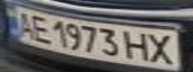1: (45, 18, 69, 48)
3: (96, 25, 121, 58)
7: (78, 24, 100, 55)
9: (60, 20, 84, 52)
A: (12, 8, 39, 39)
E: (27, 14, 54, 43)
H: (121, 28, 154, 62)
X: (145, 30, 181, 66)
